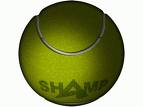tennis ball: (15, 1, 128, 107)
